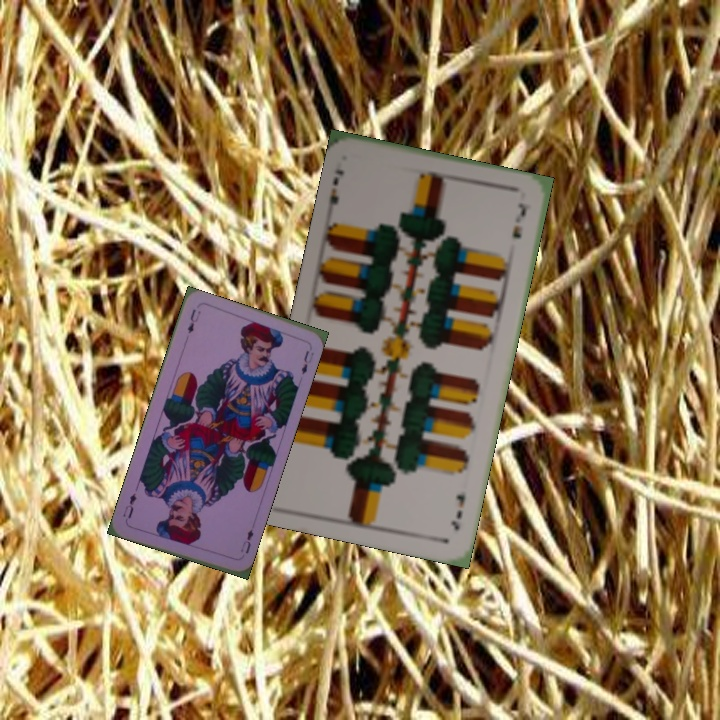E7: (323, 166, 347, 215), (447, 490, 468, 533)
EU: (236, 525, 256, 556), (183, 305, 203, 336)
